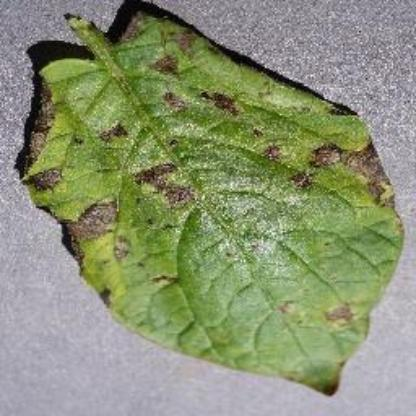Early-Blight: (8, 0, 410, 400)
